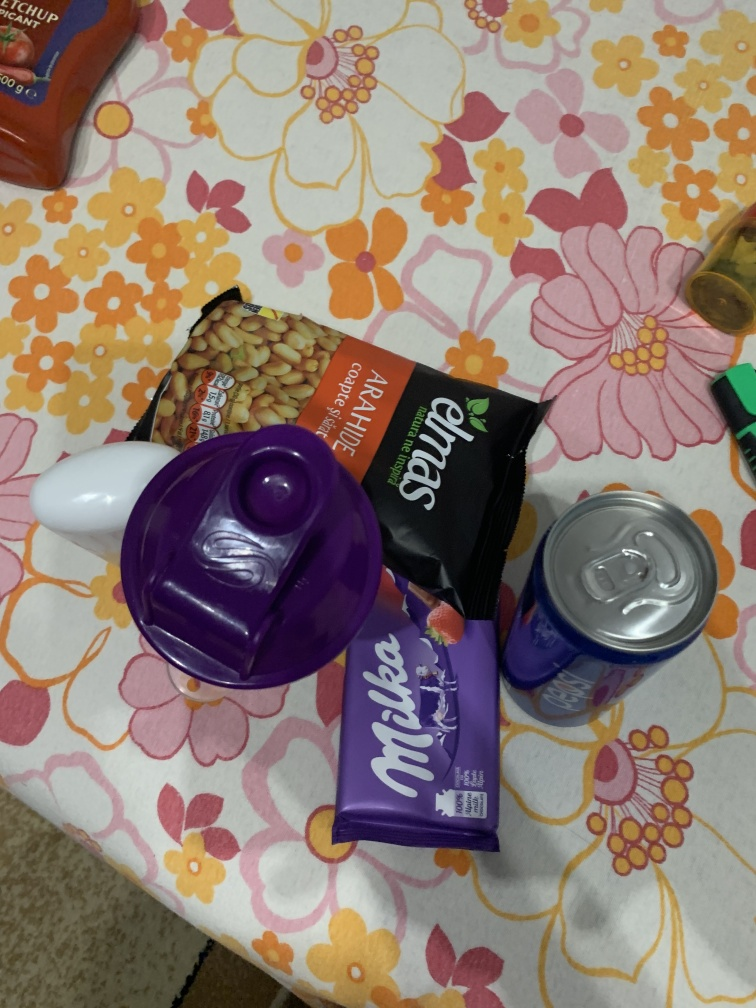milka: (332, 563, 507, 859)
peanuts: (120, 280, 558, 619)
pepsi: (490, 482, 720, 767)
